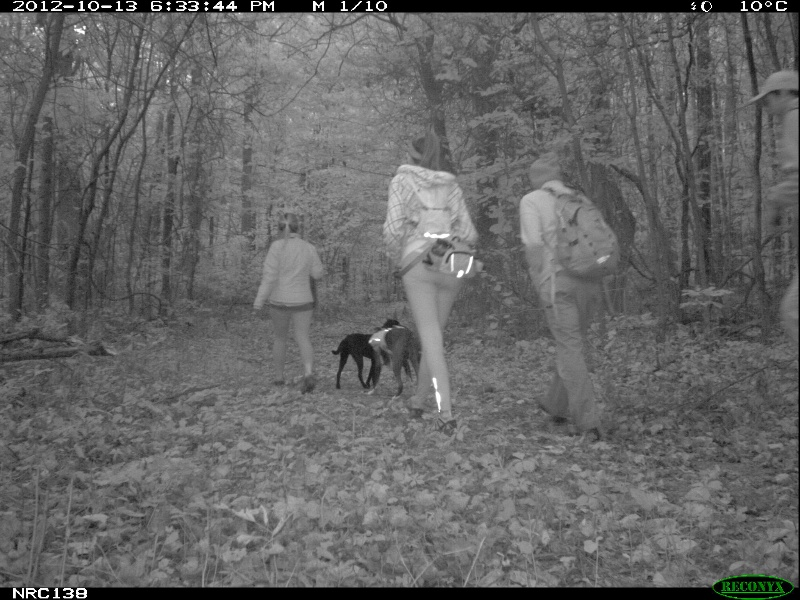dog: (337, 316, 393, 391), (372, 323, 424, 392)
human: (381, 136, 478, 441), (520, 152, 617, 443), (249, 216, 331, 394), (752, 64, 800, 339)
human face: (755, 85, 792, 122)
human legs: (536, 279, 608, 441), (401, 259, 466, 437), (269, 297, 321, 393)
